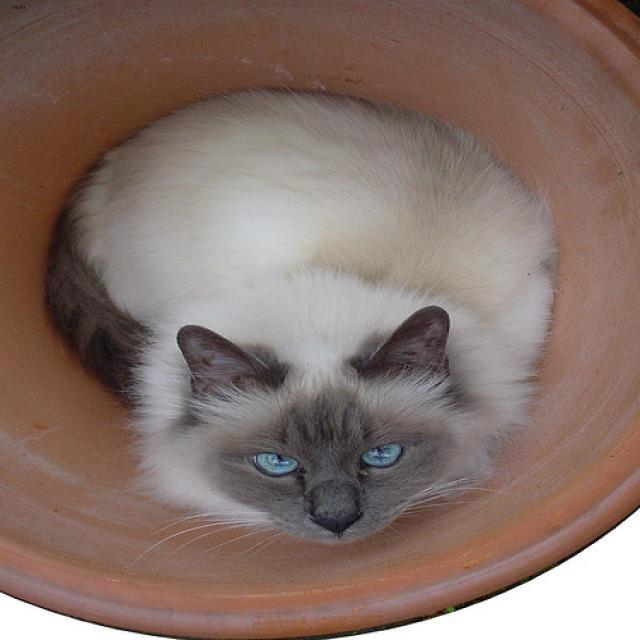Birman: (174, 303, 454, 543)
